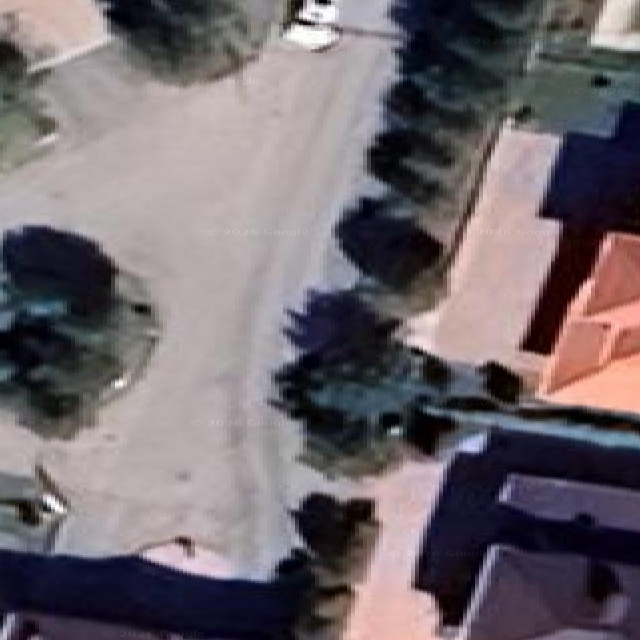car: (283, 0, 337, 48)
